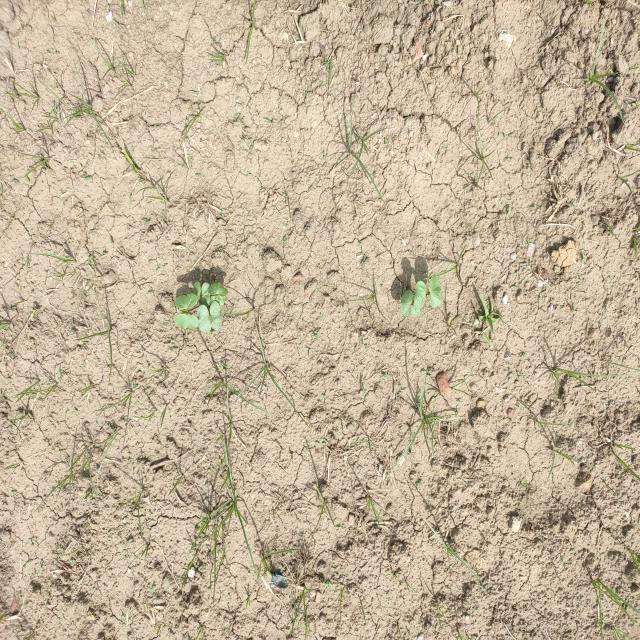seedling: (429, 274, 442, 308), (197, 304, 211, 333), (174, 314, 199, 330), (209, 300, 222, 330), (175, 293, 197, 309), (414, 281, 427, 308), (401, 290, 413, 316), (208, 282, 228, 297), (201, 282, 210, 307), (193, 282, 201, 304), (210, 295, 226, 306), (411, 302, 421, 317)
